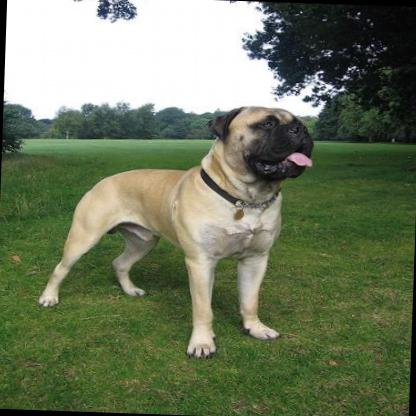bull_mastiff: (32, 99, 314, 358)
